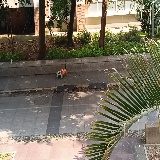fire: (60, 68, 66, 75)
